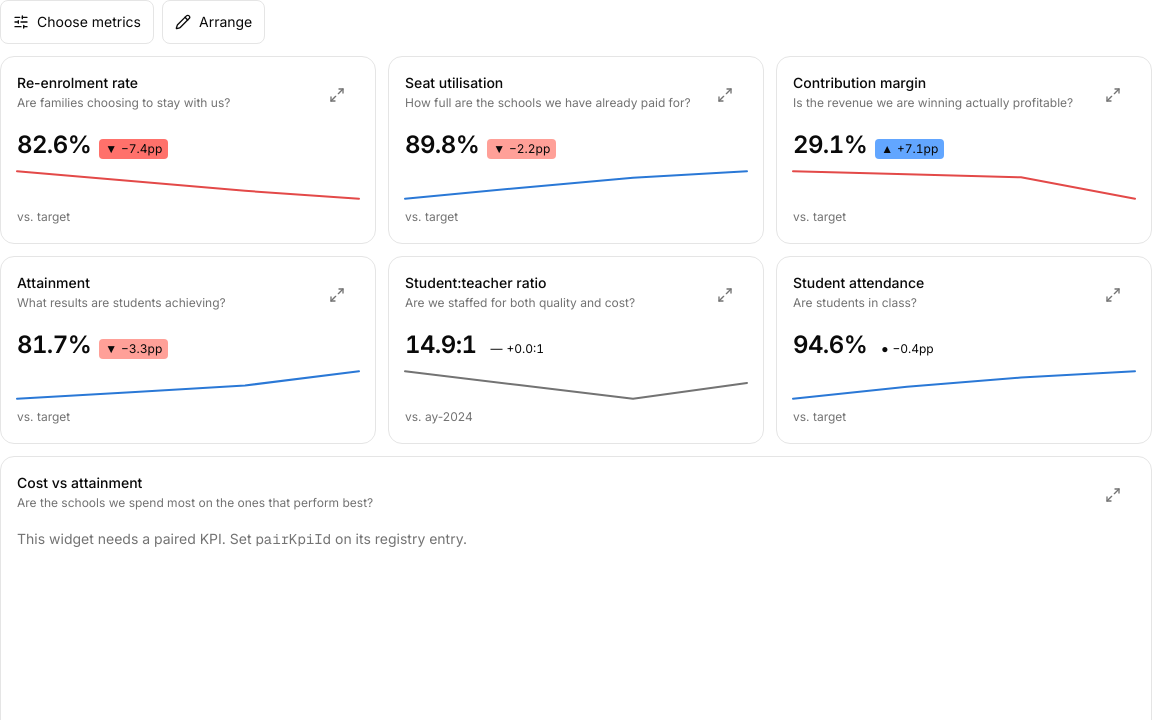
Scenario: DashboardCustomizer › the picker › groups by pillar and shows the question each widget answers
Click the button "Choose metrics" at x=77, y=22, box top-left (0, 0), bottom-right (154, 44)
(page scrolled)
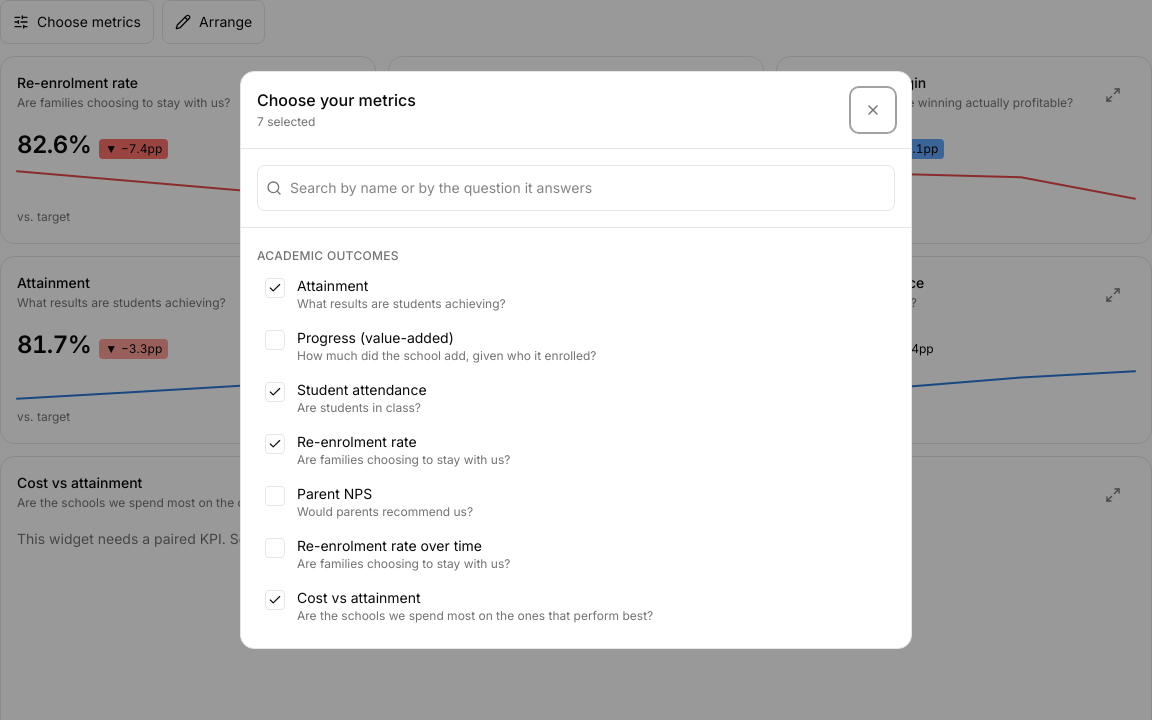
Expected: the 1st text "Are families choosing to stay with us?" is shown, top-left (297, 452), bottom-right (510, 468)
